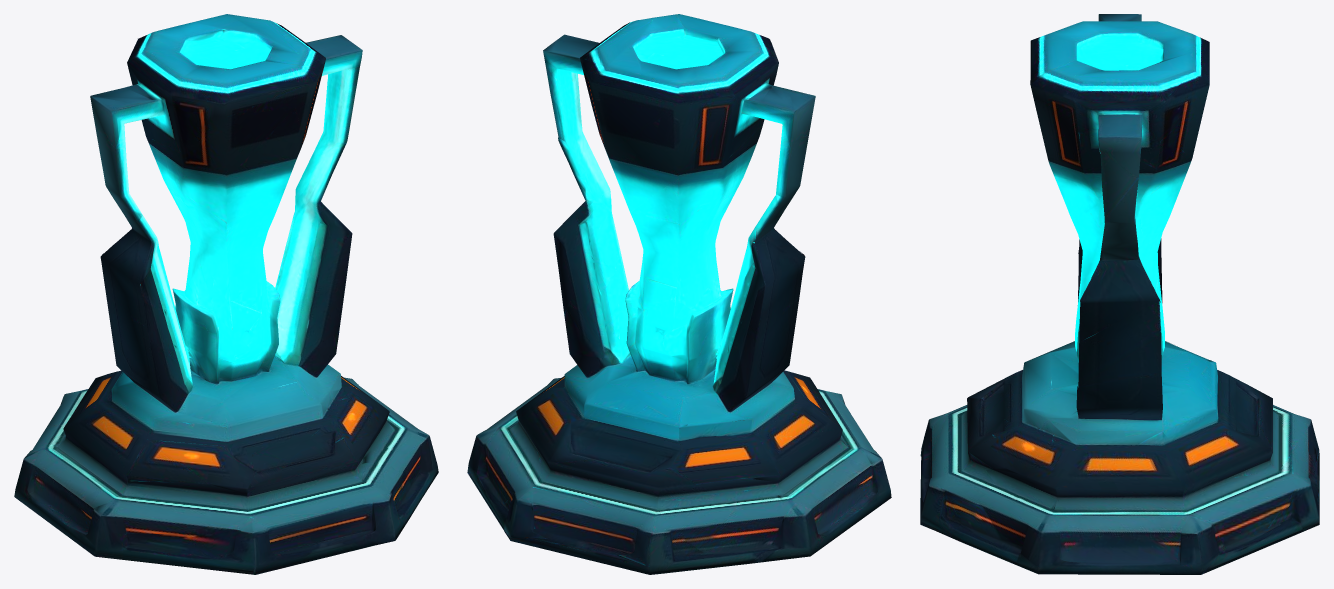
File: championship_trophy.glb
The picture shows the model from 3 angles, left to right: view 1: azimuth 30°, elevation 25°; view 2: azimuth 150°, elevation 25°; view 3: azimuth 270°, elevation 25°; orthographic projection.
Bounding box in the file's own units: 1.56 × 1.9 × 1.57.
Materials: 1 (1 with a texture image).
